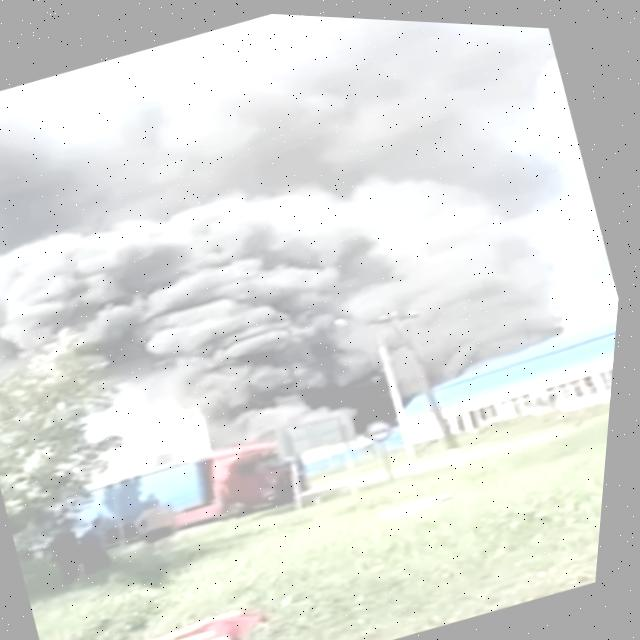Smoke: (0, 0, 640, 551)
